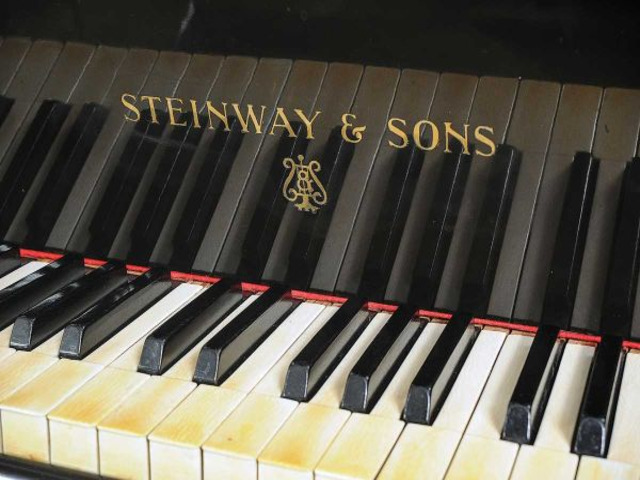Piano: (1, 4, 637, 477)
